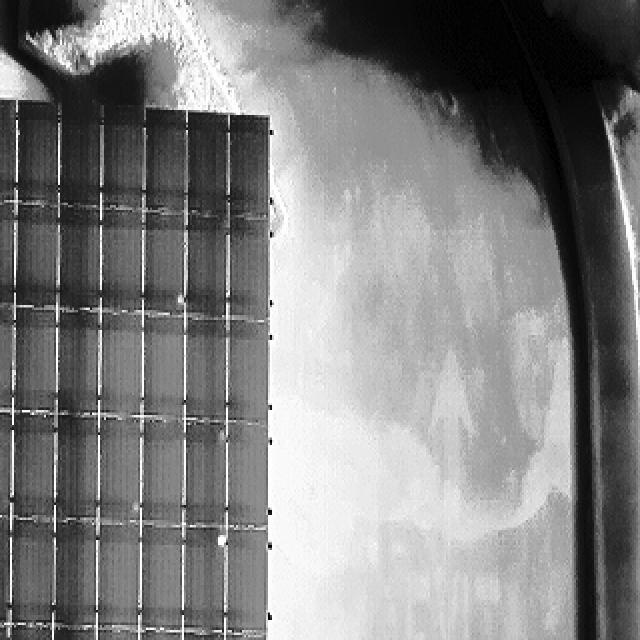Hotspots: (170, 284, 190, 318), (210, 530, 230, 554)
PV-modules: (91, 524, 137, 632), (95, 316, 141, 422), (12, 520, 57, 628), (223, 323, 269, 428), (94, 414, 139, 521), (13, 416, 58, 522), (224, 419, 268, 527), (138, 421, 182, 528), (139, 524, 183, 631), (96, 212, 140, 318), (53, 418, 97, 523), (139, 316, 183, 421), (187, 111, 231, 216), (227, 526, 270, 633), (14, 308, 58, 412), (56, 311, 100, 414), (16, 207, 60, 310), (230, 218, 274, 320), (185, 318, 229, 420), (56, 522, 97, 629), (141, 110, 184, 212), (57, 210, 99, 314), (101, 110, 145, 209), (186, 213, 229, 314), (232, 114, 274, 217), (187, 418, 227, 526), (141, 210, 183, 312), (186, 528, 226, 635), (18, 103, 60, 204), (57, 110, 99, 206), (0, 98, 12, 200), (0, 308, 10, 418), (0, 202, 10, 310), (0, 407, 8, 515), (0, 517, 6, 625), (134, 627, 180, 640), (8, 627, 54, 640), (52, 627, 98, 640), (96, 627, 138, 640), (220, 635, 266, 640), (182, 635, 226, 640), (0, 625, 10, 640)
